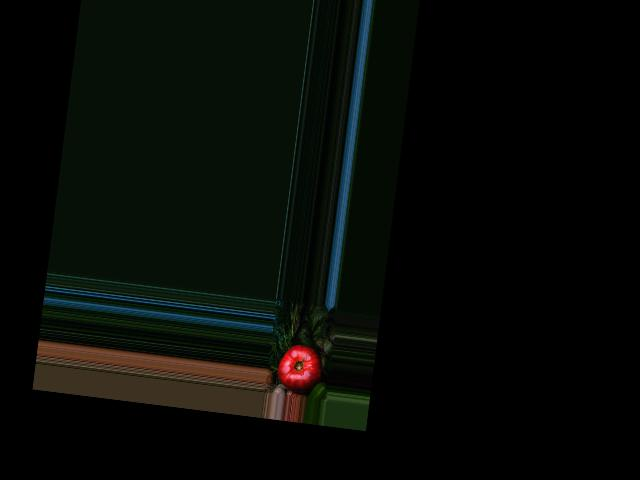tomato: (275, 342, 326, 396)
